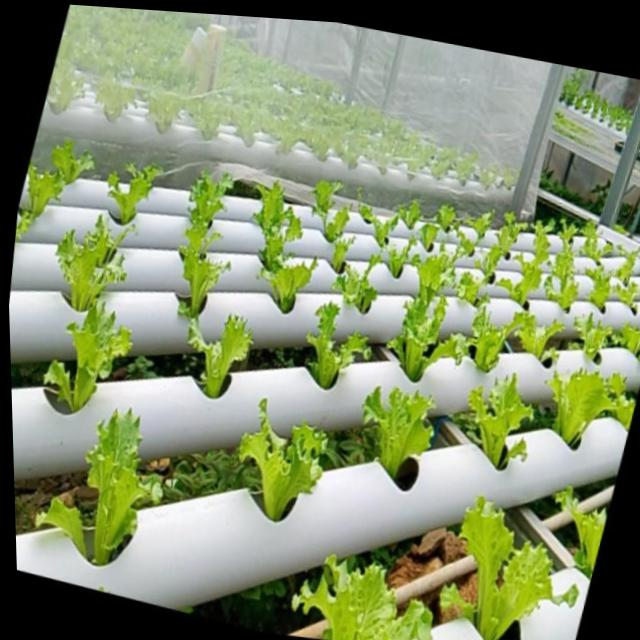Baby: (440, 491, 576, 639), (293, 550, 430, 640), (89, 407, 163, 562), (238, 398, 327, 520), (48, 301, 134, 412), (180, 175, 232, 328), (362, 387, 433, 489), (59, 217, 132, 313), (464, 373, 532, 468), (455, 301, 535, 372), (307, 303, 370, 390), (546, 364, 613, 445), (189, 315, 253, 399), (254, 183, 301, 271), (18, 163, 70, 236), (333, 256, 394, 315), (259, 259, 318, 315), (110, 166, 163, 227), (545, 226, 579, 312), (411, 246, 457, 307), (580, 221, 613, 261), (587, 265, 612, 308), (456, 271, 483, 304), (615, 250, 640, 285), (457, 229, 481, 258)
